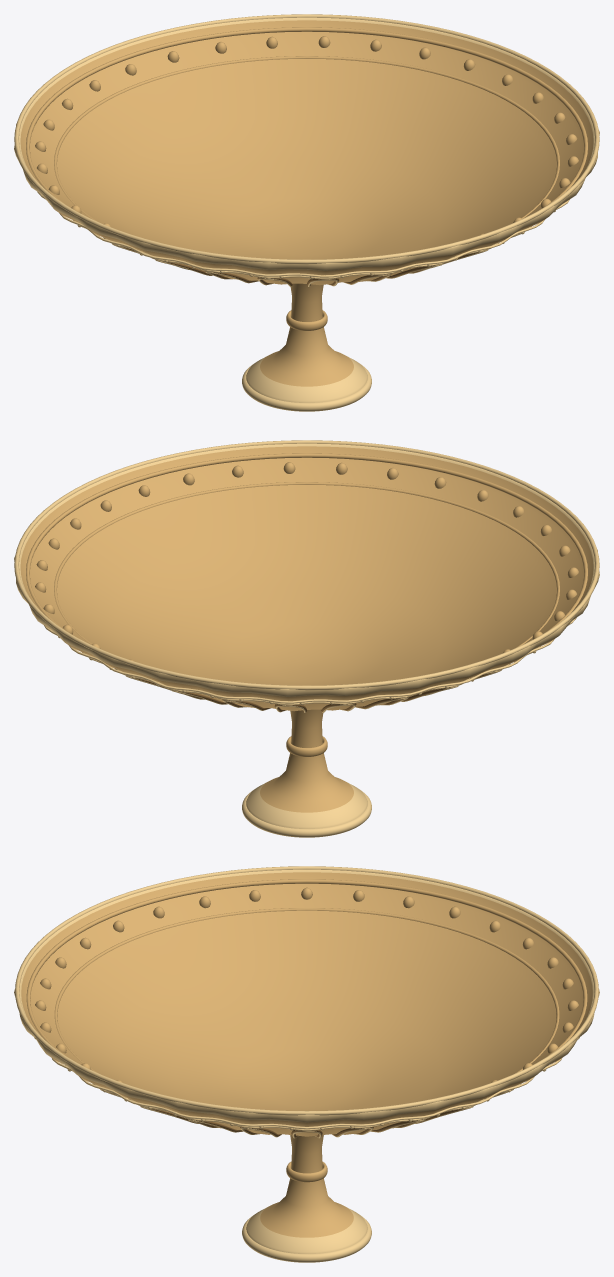
The model's file is bowl-v4.glb.
3 renders of one model, top to bottom at view 1: azimuth 30°, elevation 25°; view 2: azimuth 150°, elevation 25°; view 3: azimuth 270°, elevation 25°, orthographic.
Visible parts, largest first — view 1: MIDIS_Patera_V4_Chased_Gold; view 2: MIDIS_Patera_V4_Chased_Gold; view 3: MIDIS_Patera_V4_Chased_Gold.
Boxes of the visible parts, bbox=[...] form: MIDIS_Patera_V4_Chased_Gold: bbox=[14, 14, 599, 411]; MIDIS_Patera_V4_Chased_Gold: bbox=[14, 440, 599, 837]; MIDIS_Patera_V4_Chased_Gold: bbox=[14, 866, 599, 1262].
Bounding box in the file's own units: 1.78 × 0.831 × 1.78.
